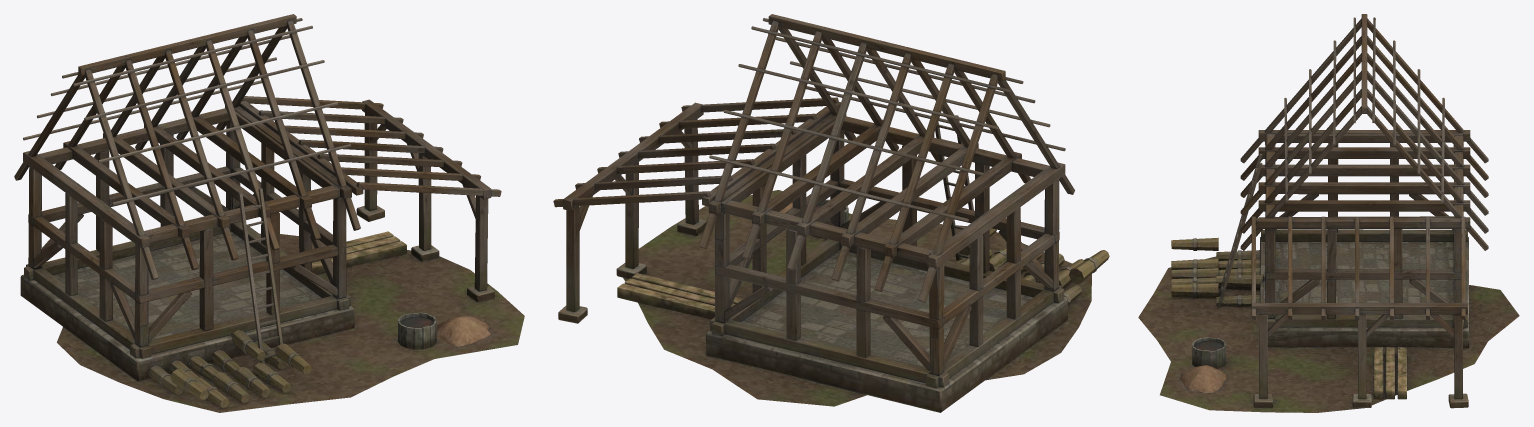
Rendered from weaver_build2.glb.
The picture shows the model from 3 angles, left to right: view 1: azimuth 30°, elevation 25°; view 2: azimuth 150°, elevation 25°; view 3: azimuth 270°, elevation 25°; orthographic projection. The views are drawn at different scales.
Parts seen in each view (by area): view 1: weaver_build2_LOD0; view 2: weaver_build2_LOD0; view 3: weaver_build2_LOD0.
Part boxes in pixels (<box>): weaver_build2_LOD0: <box>14,14,524,412</box>; weaver_build2_LOD0: <box>553,14,1109,412</box>; weaver_build2_LOD0: <box>1138,14,1519,412</box>.
Size of what is drawn, in the model's own units: 8.5 by 5.66 by 8.11.
Materials: 1 (1 with a texture image).
